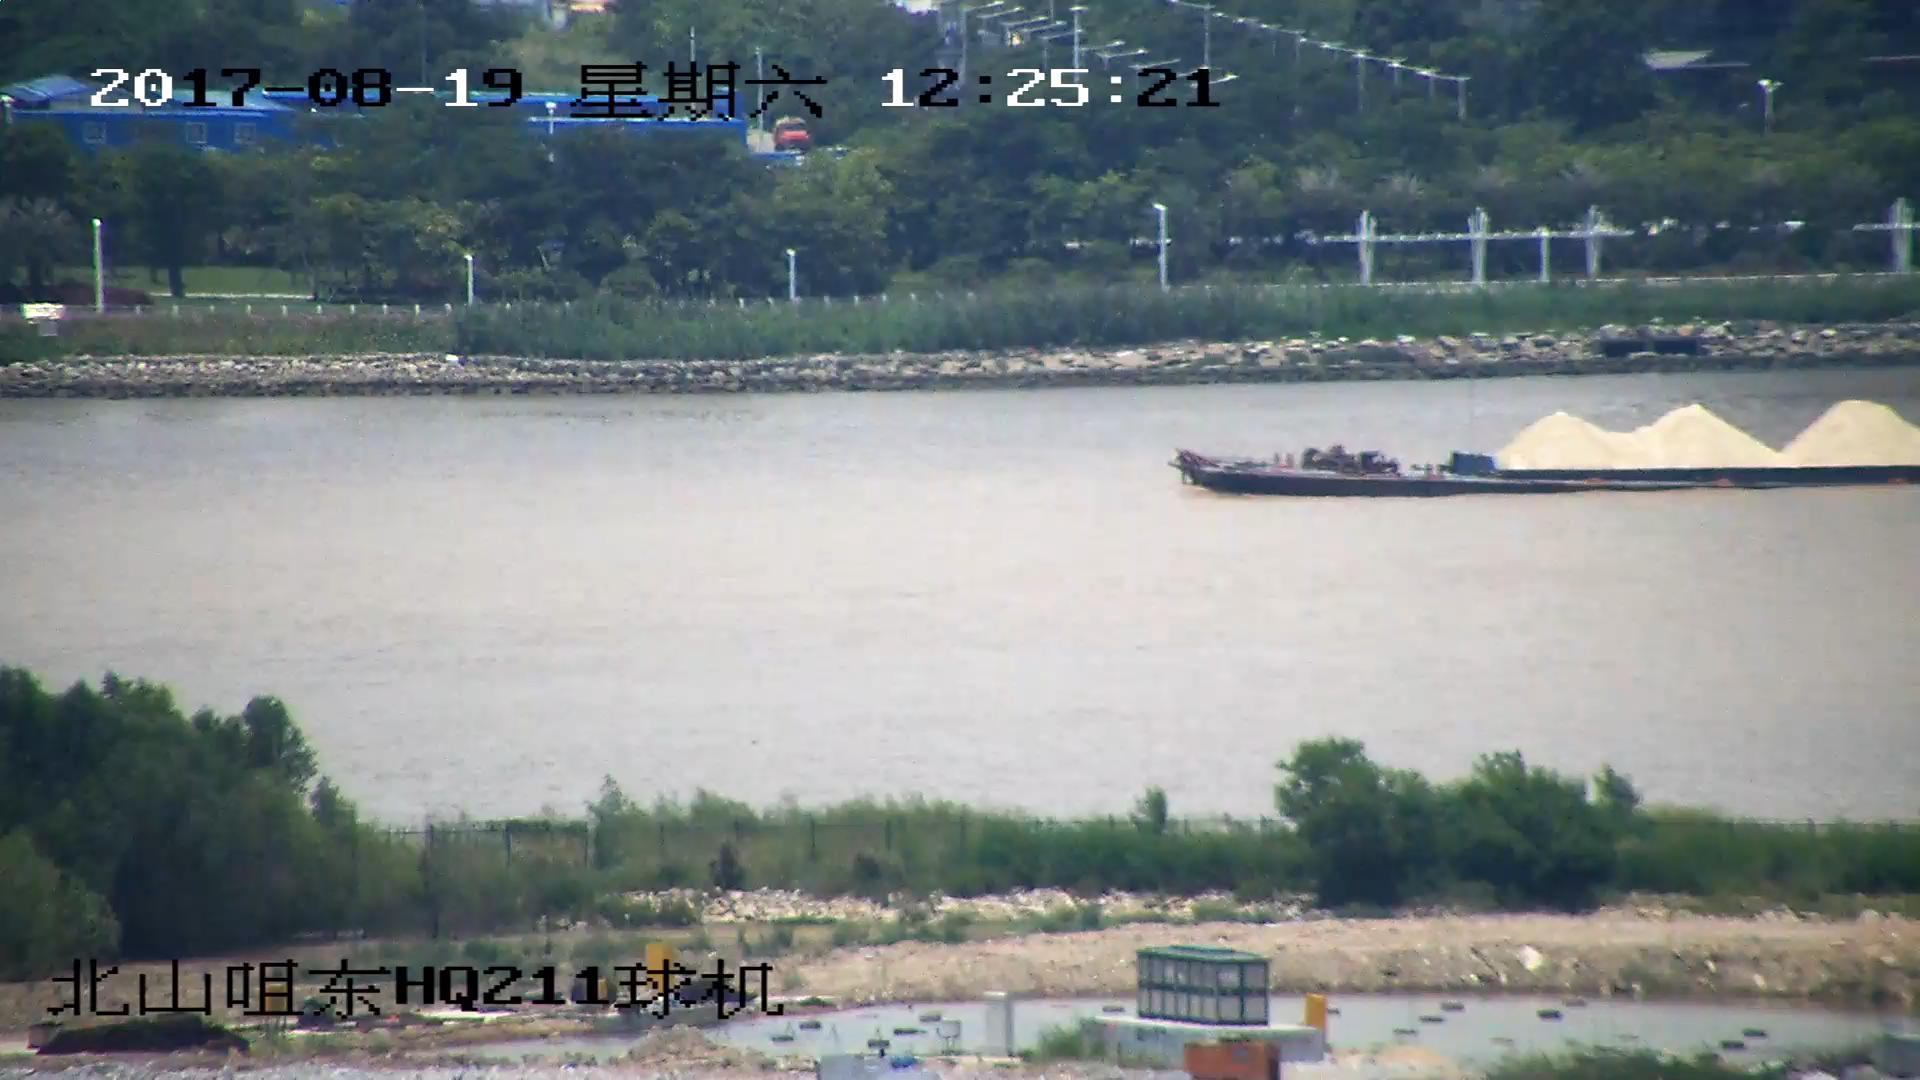Ship: (1167, 396, 1920, 500)
